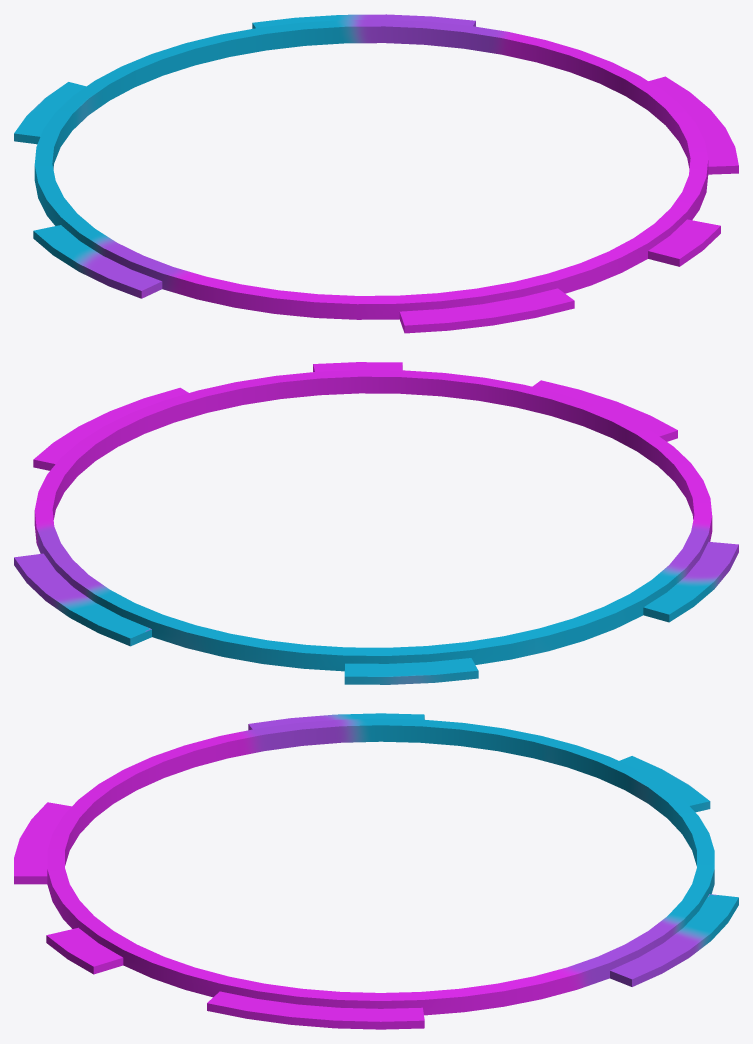
3 views of the same model, one above another, from view 1: azimuth 30°, elevation 25°; view 2: azimuth 150°, elevation 25°; view 3: azimuth 270°, elevation 25° (orthographic).
Parts seen in each view (by area): view 1: en3; view 2: en3; view 3: en3.
Part boxes in pixels (x1,y1,x2,y2): en3: [14, 14, 738, 333]; en3: [14, 362, 738, 684]; en3: [14, 713, 738, 1029].
Size of the model in its own units: 1239 by 30.9 by 1230.
